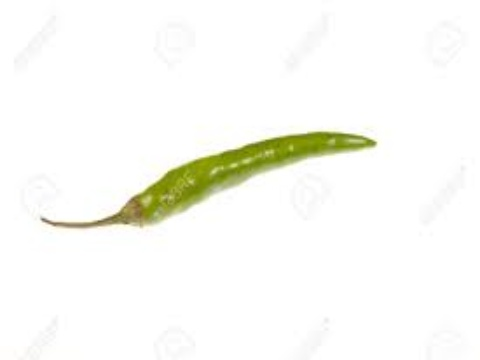Chilli: (29, 125, 402, 236)
